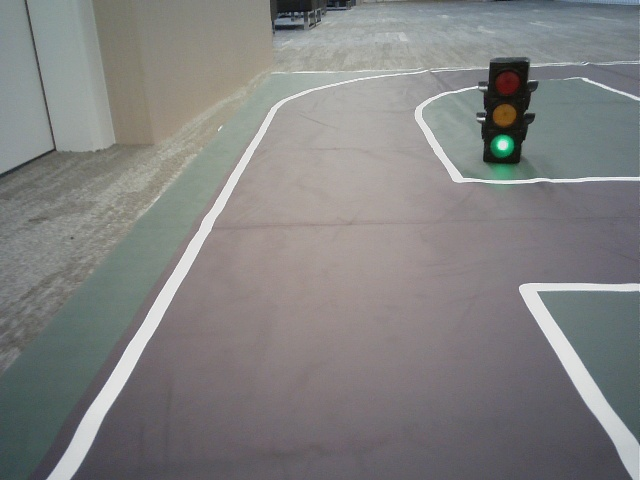green: (489, 66, 522, 161)
